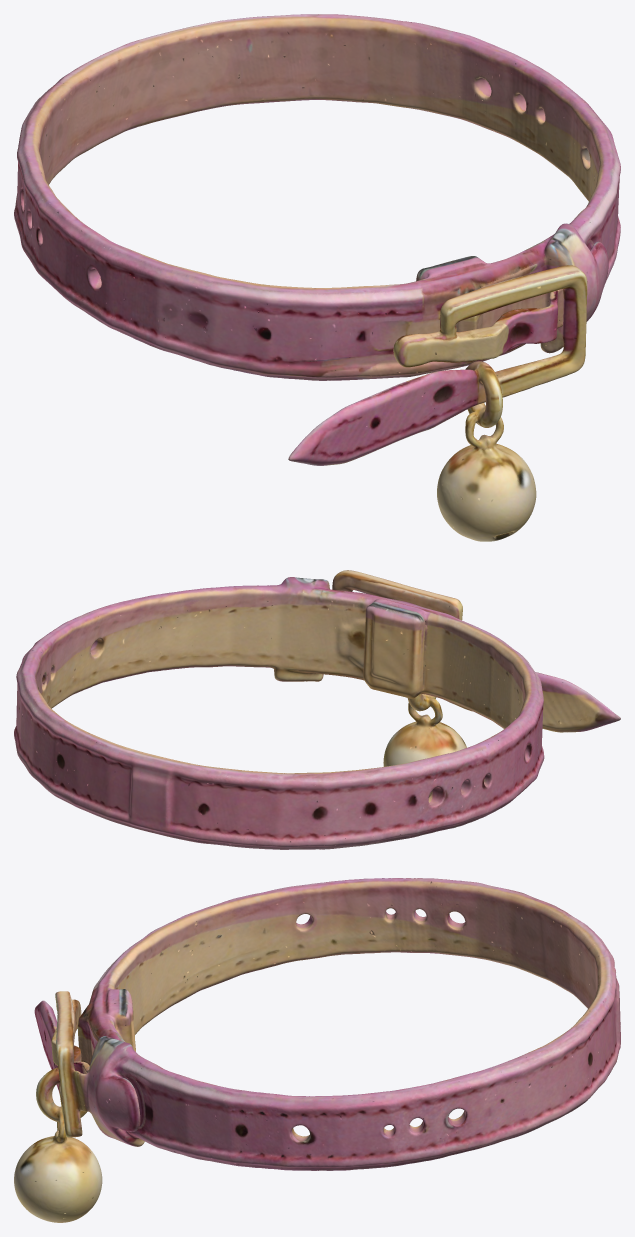
The model's file is Pink_Leather_Cat_Coll_.glb.
3 renders of one model, top to bottom at view 1: azimuth 30°, elevation 25°; view 2: azimuth 150°, elevation 25°; view 3: azimuth 270°, elevation 25°, orthographic. The views are drawn at different scales.
Size of the model in its own units: 1.76 by 0.8959 by 2.
Materials: 1 (1 with a texture image).
